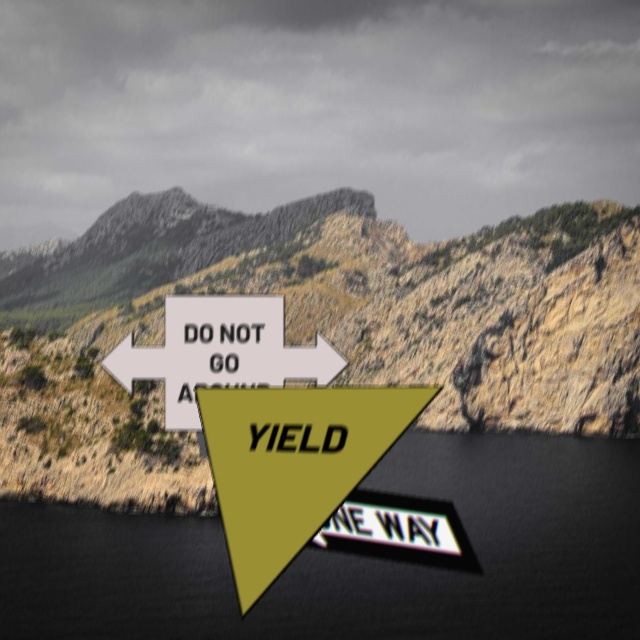DO_NOT_GO_AROUND: (98, 294, 350, 432)
ONE_WAY_ left: (233, 471, 485, 576)
YIELD: (193, 385, 445, 620)
